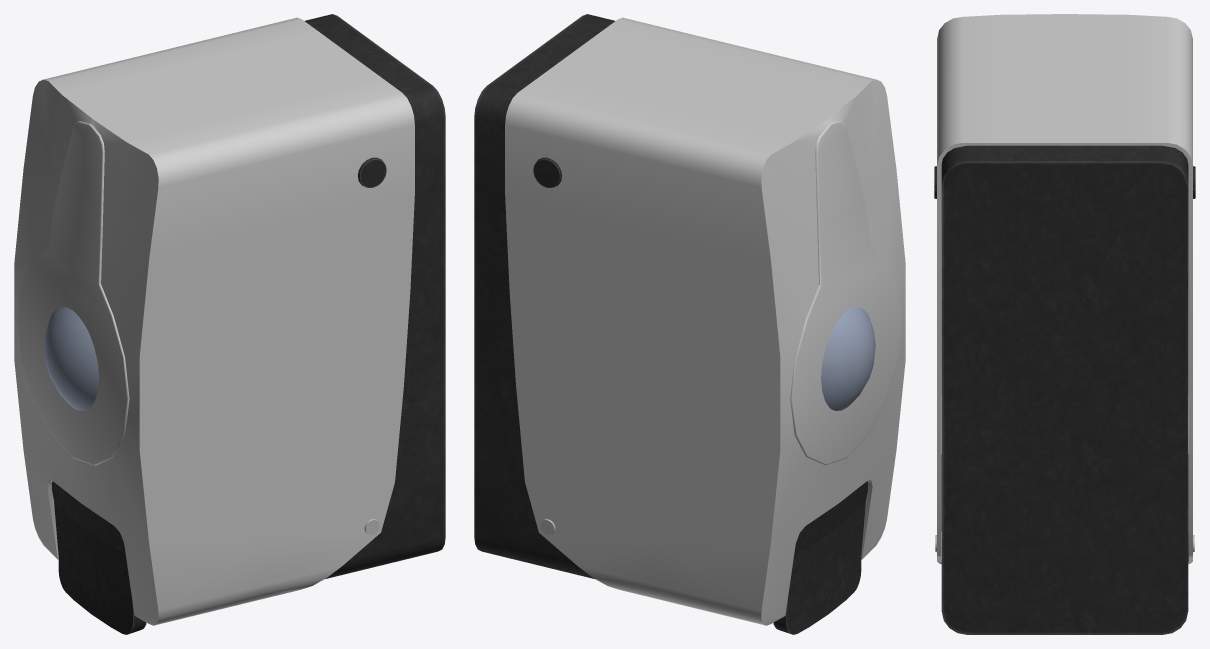
Rendered from SM_sanitizer.fbx.
3 renders of one model, left to right at view 1: azimuth 30°, elevation 25°; view 2: azimuth 150°, elevation 25°; view 3: azimuth 270°, elevation 25°, orthographic.
Parts seen in each view (by area): view 1: SM_sanitizer; view 2: SM_sanitizer; view 3: SM_sanitizer.
Boxes of the visible parts, left/top/right/bottom form: SM_sanitizer: left=14, top=14, right=445, bottom=634; SM_sanitizer: left=474, top=14, right=905, bottom=634; SM_sanitizer: left=934, top=14, right=1195, bottom=634.
Size of the model in its own units: 17.54 by 11.78 by 25.03.
